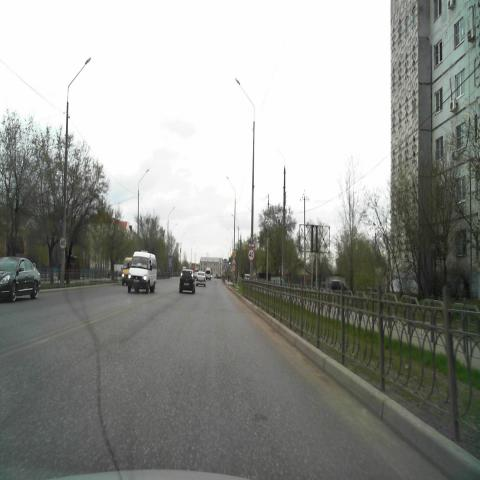1_23: (248, 235, 256, 248)
3_24: (59, 237, 67, 251), (248, 249, 255, 260)
